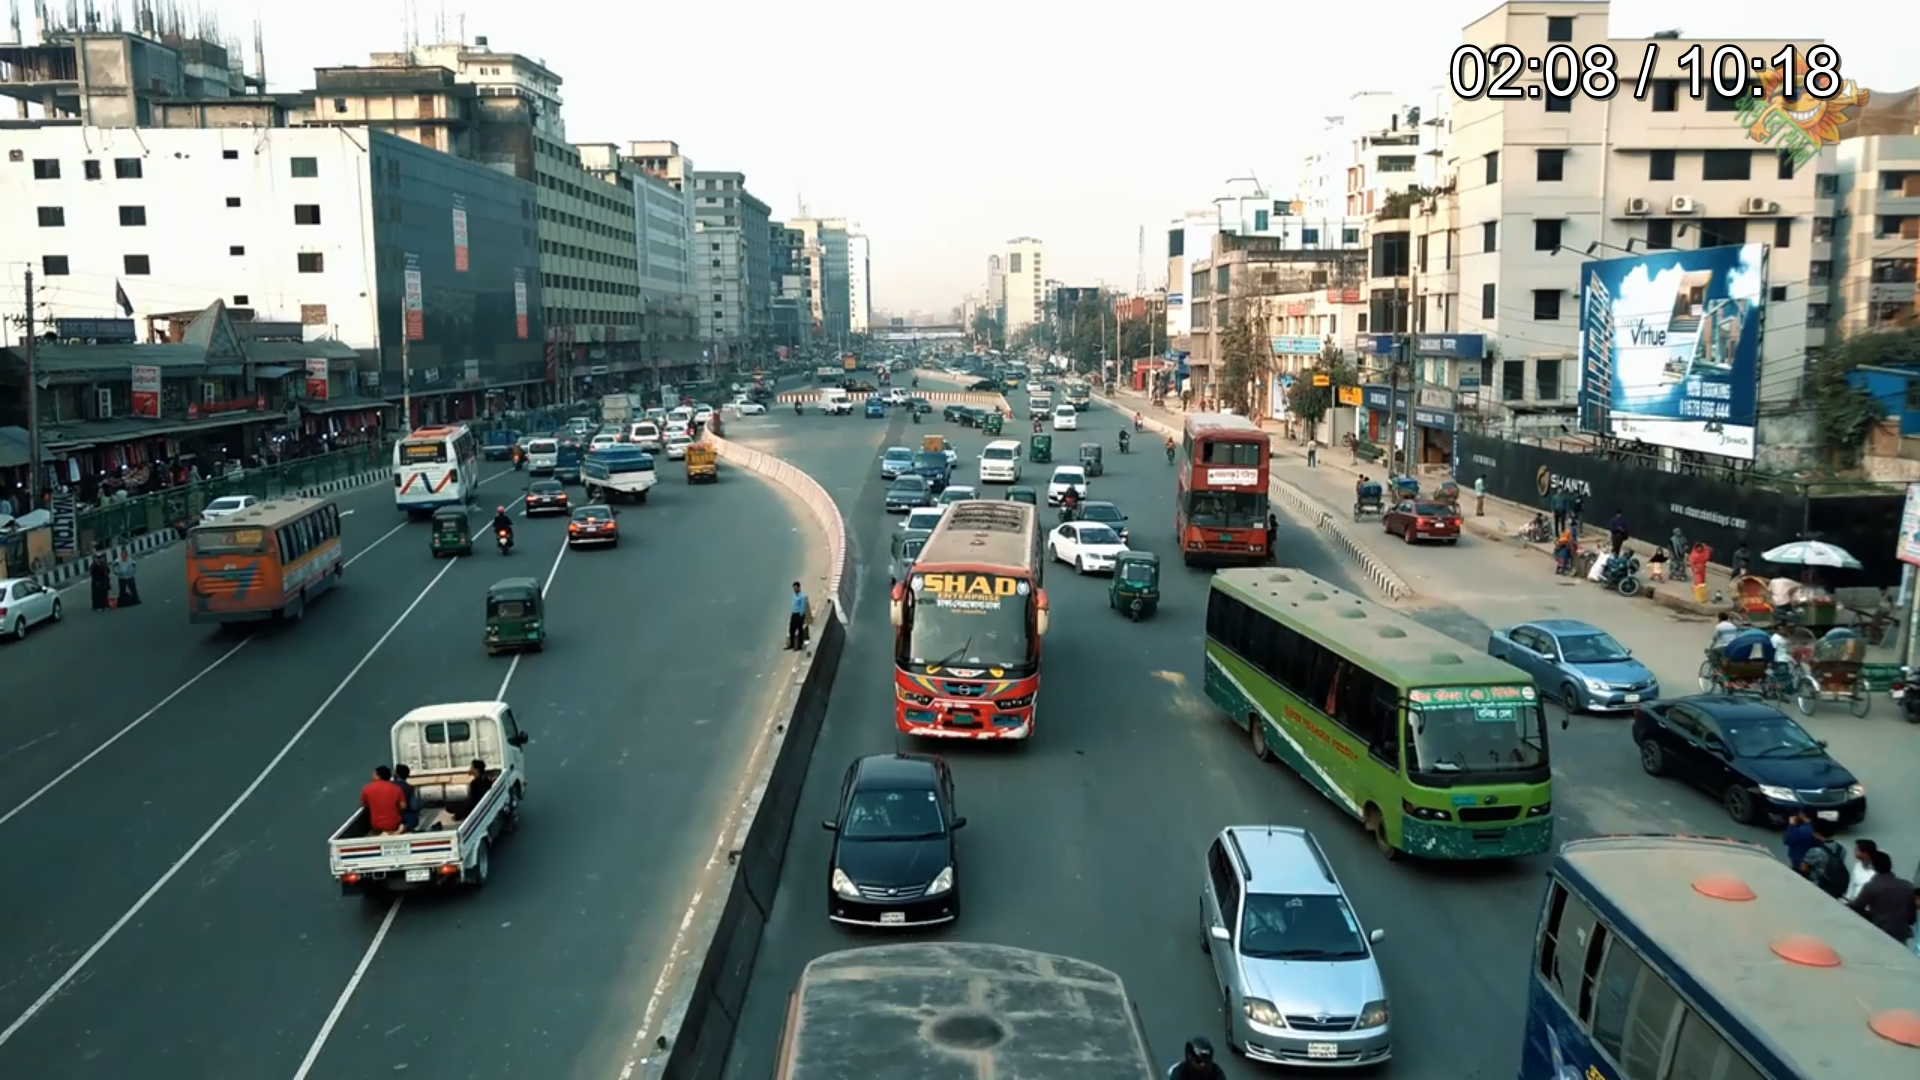HeavyVehicle: (1201, 567, 1553, 861), (1543, 836, 1920, 1080), (769, 938, 1174, 1080), (897, 491, 1047, 754), (174, 491, 349, 629), (1178, 407, 1276, 567), (389, 419, 473, 512)
LightVehicle: (1195, 819, 1404, 1080), (318, 694, 553, 899), (831, 746, 968, 932), (568, 504, 618, 547)
